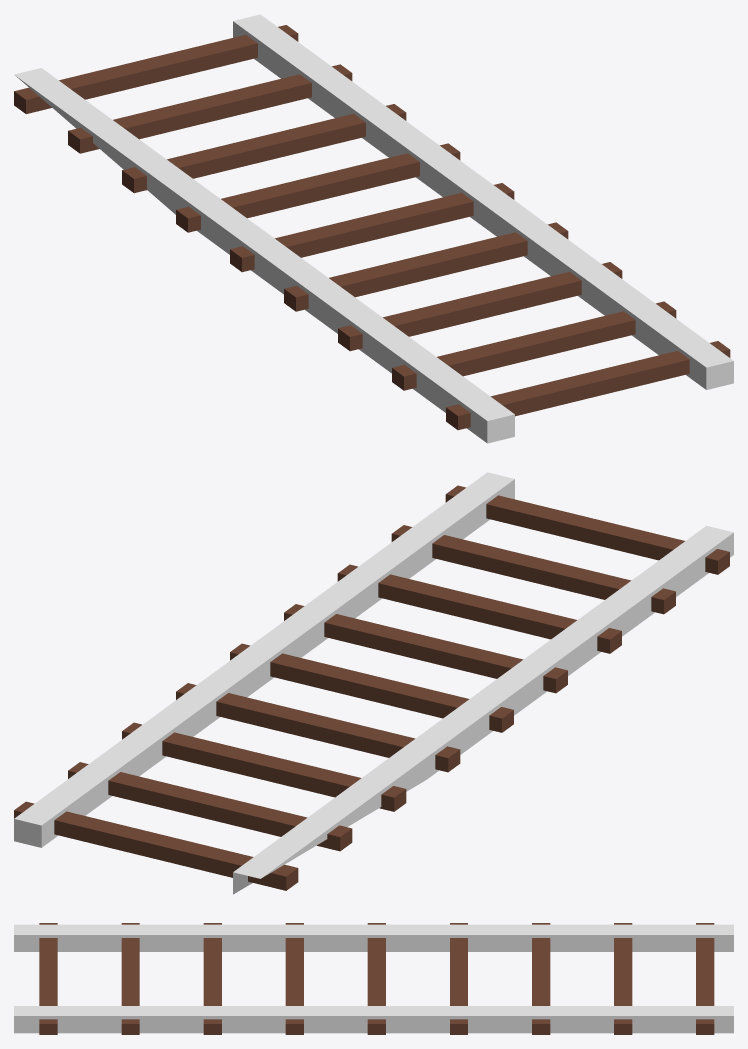
File: rail_menu.glb
The picture shows the model from 3 angles, top to bottom: view 1: azimuth 30°, elevation 25°; view 2: azimuth 150°, elevation 25°; view 3: azimuth 270°, elevation 25°; orthographic projection. The views are drawn at different scales.
Visible parts, largest first — view 1: Cube.002, Cube.001, Cube; view 2: Cube.002, Cube.001, Cube; view 3: Cube, Cube.001, Cube.002.
Part boxes in pixels (x1,y1,x2,y2): Cube.002: (14,25,730,430); Cube.001: (233,14,733,389); Cube: (14,68,514,443); Cube.002: (14,485,729,890); Cube.001: (14,472,514,847); Cube: (233,525,733,894); Cube: (14,924,733,951); Cube.001: (14,1006,733,1033); Cube.002: (39,923,714,1034).
Size of the model in its own units: 1.02 by 0.0806 by 3.08.
